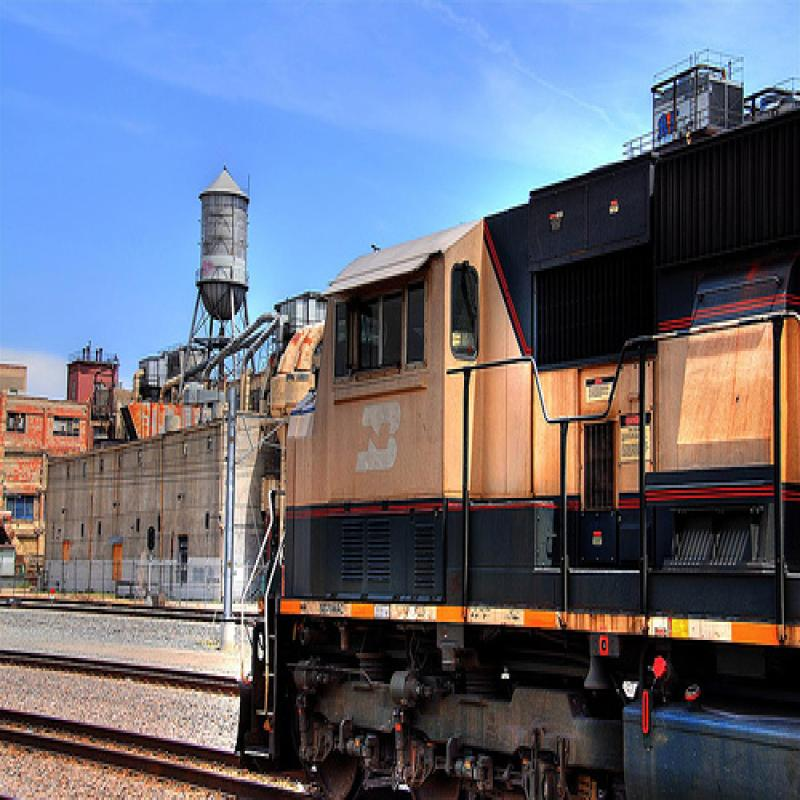train: (233, 94, 798, 798)
